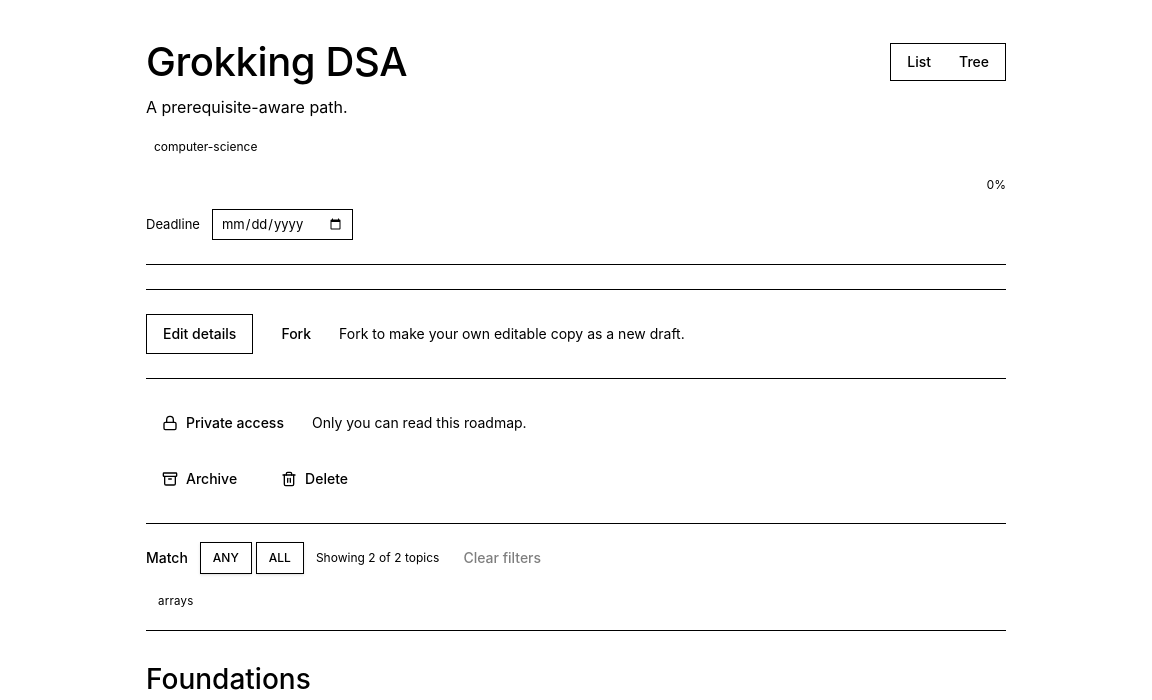
Test: RoadmapView metadata edit › edits metadata on a published roadmap (allowed post-publish)
Click the button "Edit details" at x=200, y=334, box x1=146 y1=314 x2=253 y2=354
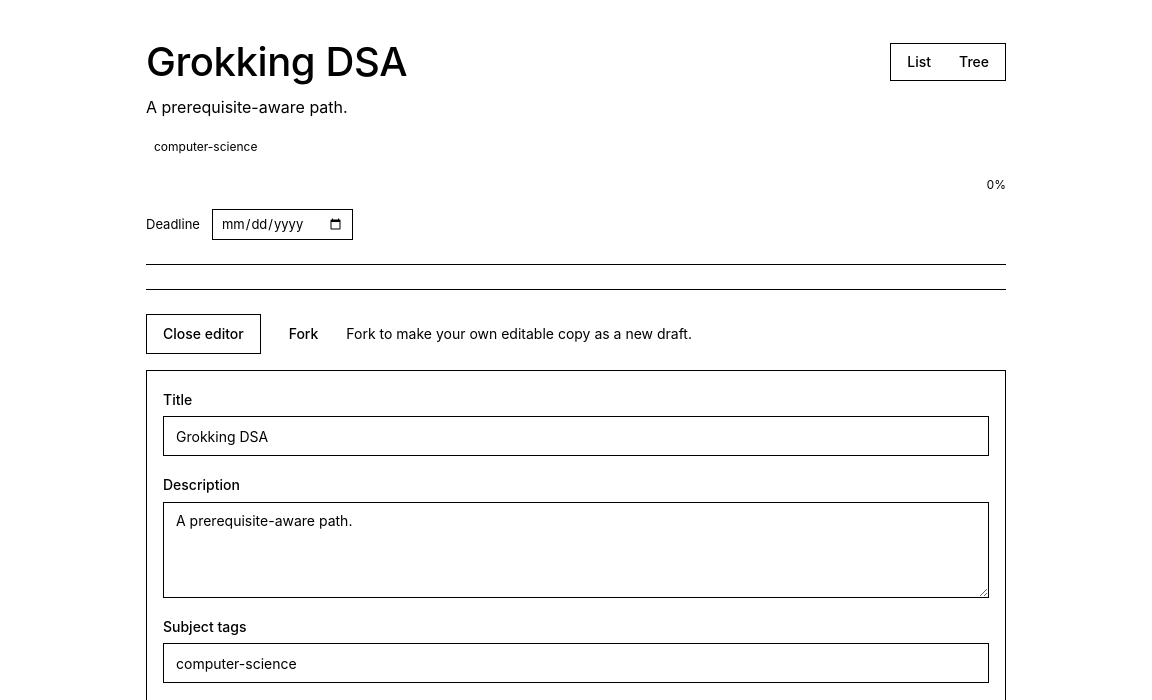
Replace the text in the field labelled "Title" with "Renamed live" at x=576, y=436, box x1=163 y1=416 x2=989 y2=456
(page scrolled)
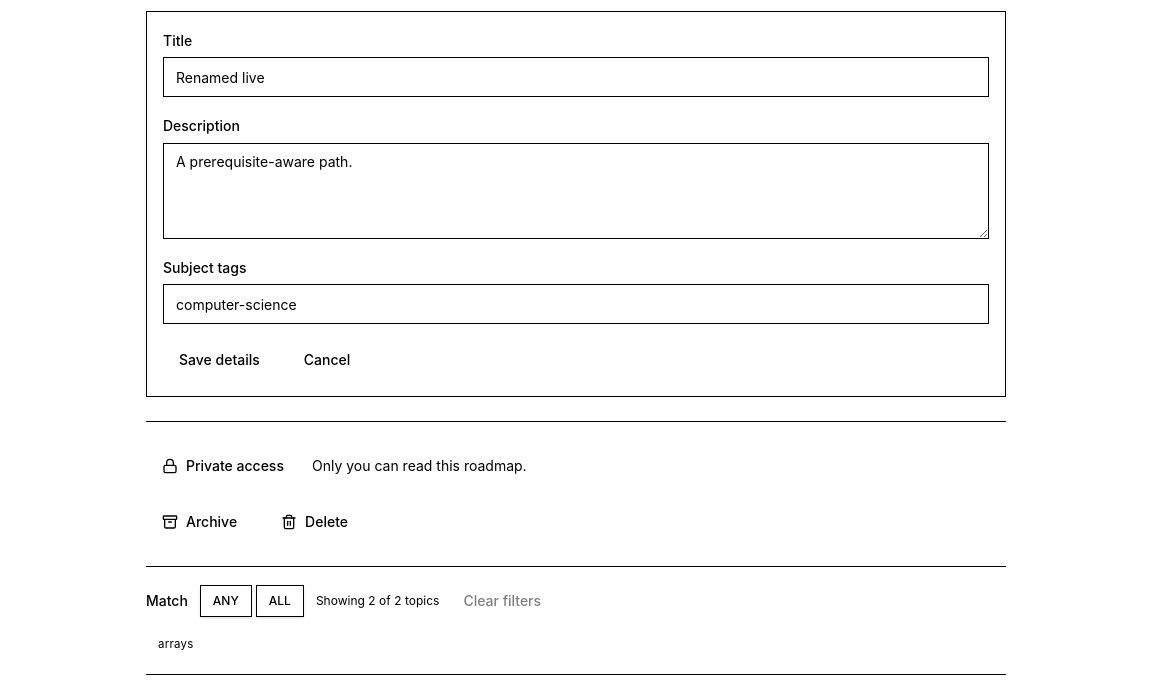
Click the button "Save details" at x=219, y=360, box x1=163 y1=340 x2=276 y2=380
(page scrolled)
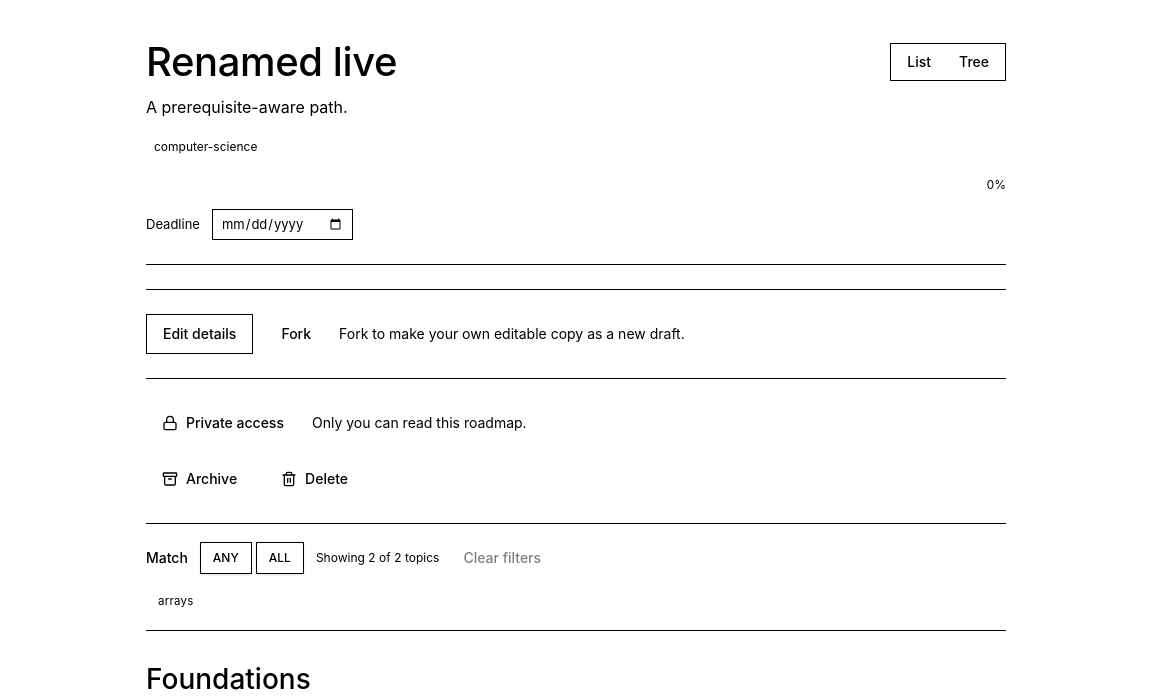
Expected: the heading "Renamed live" reads "Renamed live", x1=146 y1=37 x2=397 y2=86
